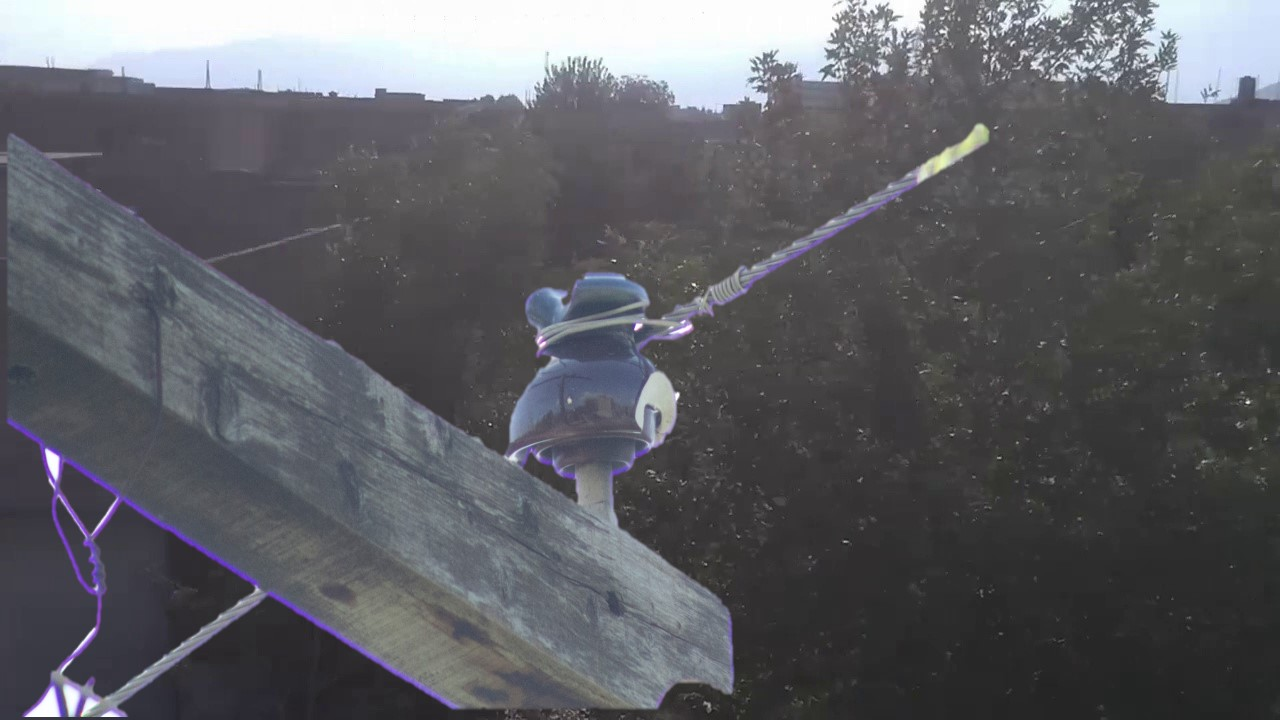defect_pin: (503, 267, 685, 482)
